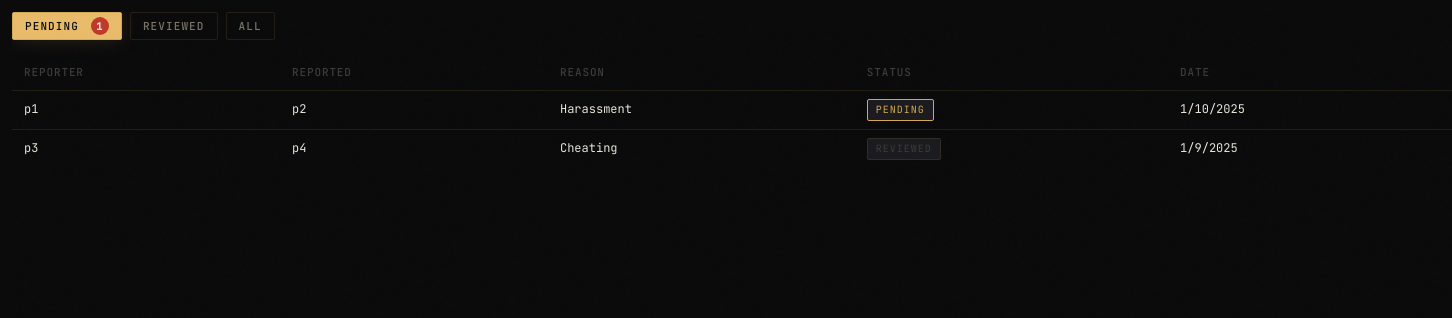
it: ModerationTab › opens detail view on row click
Click the row with test id "report-row-r1" at (732, 110), box [12, 90, 1451, 129]
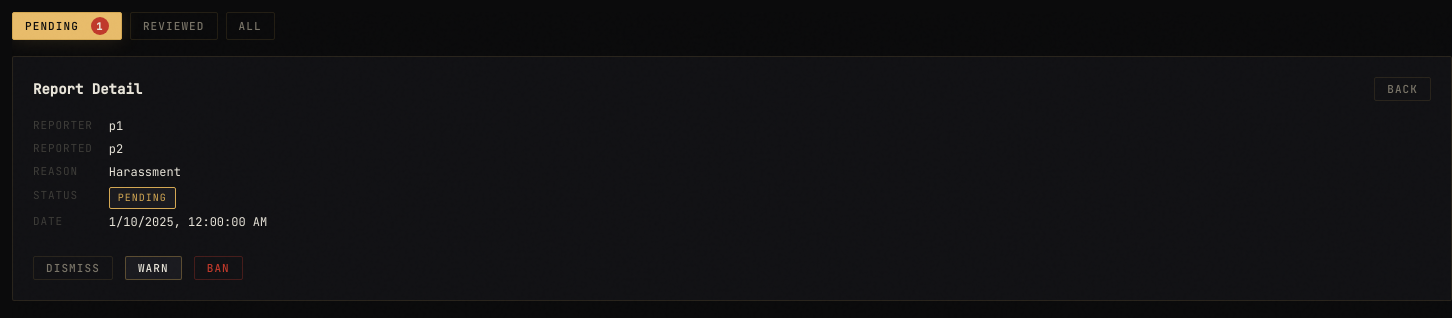
Check: the text "Harassment" is shown, box [109, 164, 181, 180]
Check: the element with test id "report-detail" is shown
